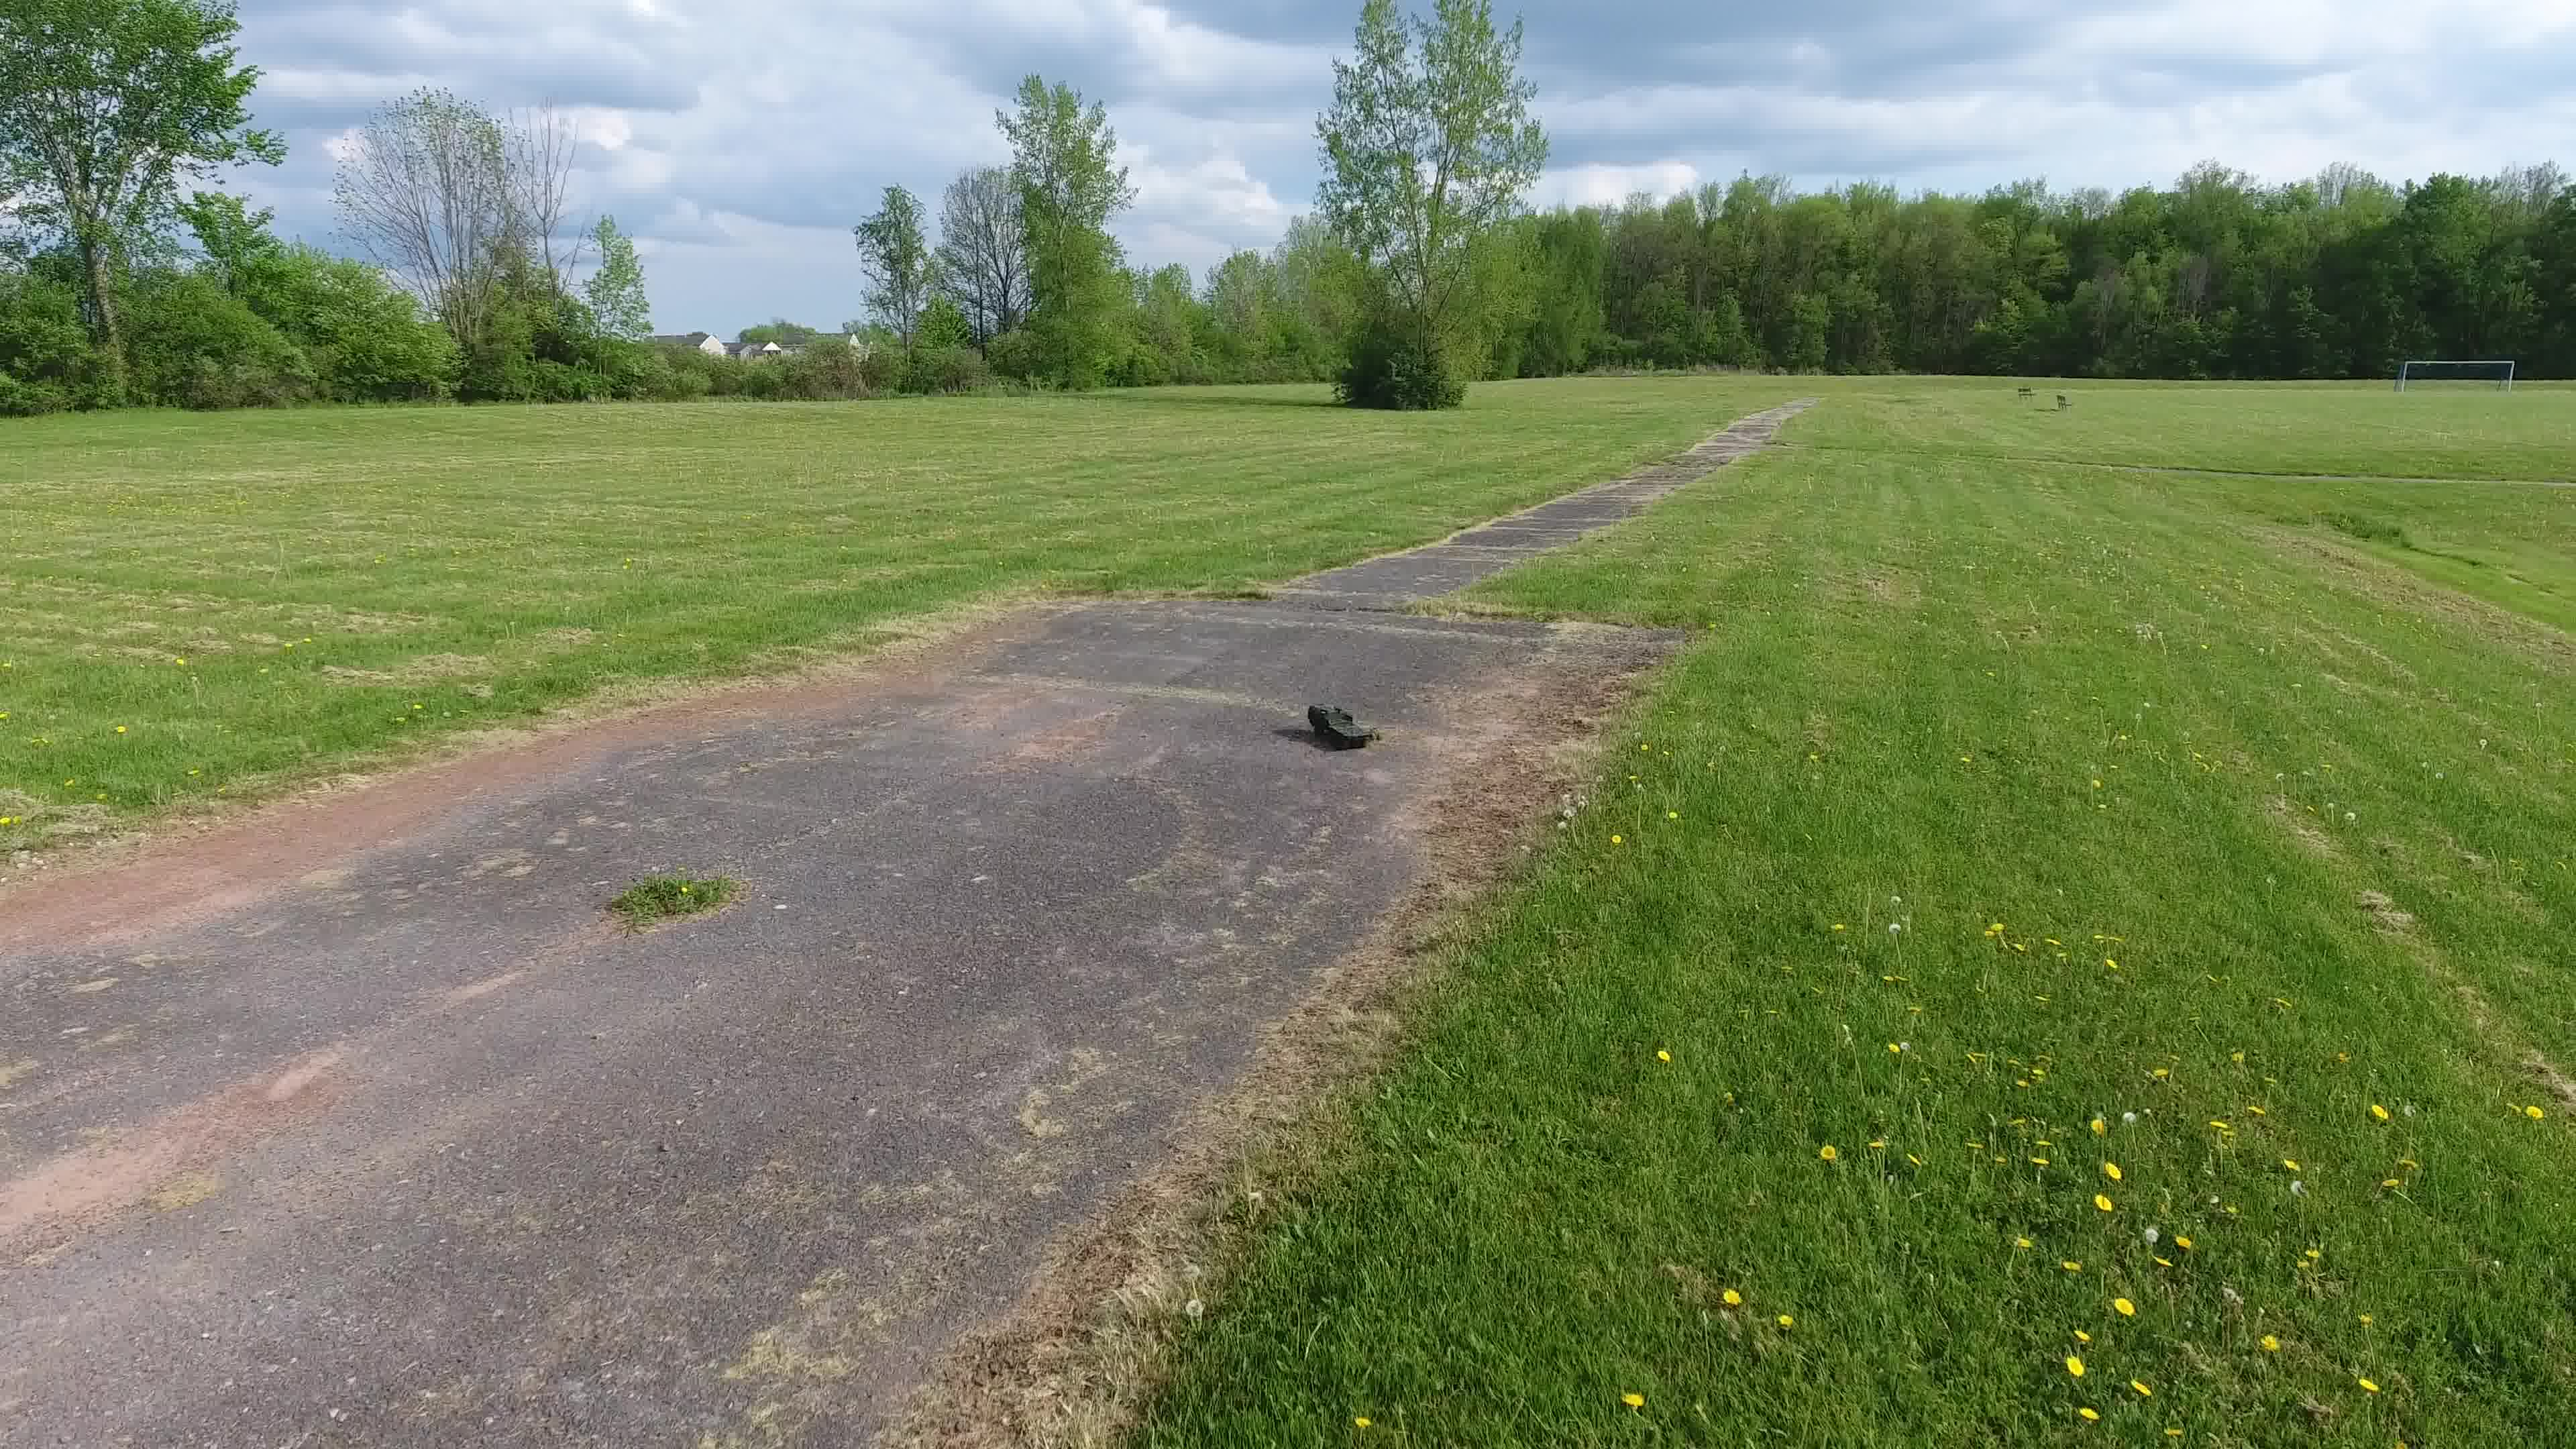transporter9_camo: (1306, 701, 1376, 750)
